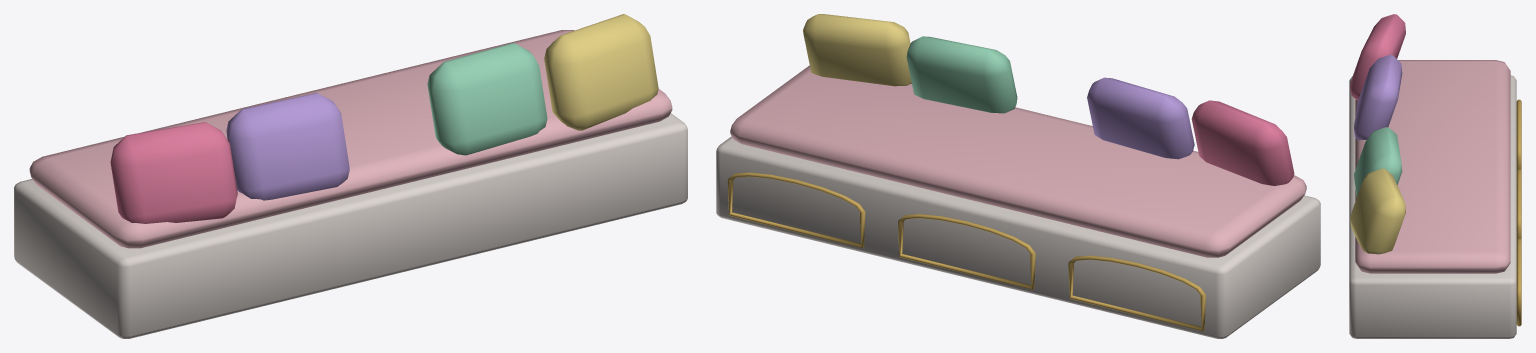
The model's file is window_seat.glb.
The picture shows the model from 3 angles, left to right: view 1: azimuth 30°, elevation 25°; view 2: azimuth 150°, elevation 25°; view 3: azimuth 270°, elevation 25°; orthographic projection. The views are drawn at different scales.
Parts seen in each view (by area): view 1: window_seat; view 2: window_seat; view 3: window_seat.
Boxes of the visible parts, x1,y1,x2,y2 form: window_seat: (14, 14, 687, 338); window_seat: (716, 14, 1320, 338); window_seat: (1349, 14, 1521, 338).
Size of what is drawn, in the model's own units: 2 by 0.6 by 0.7.
